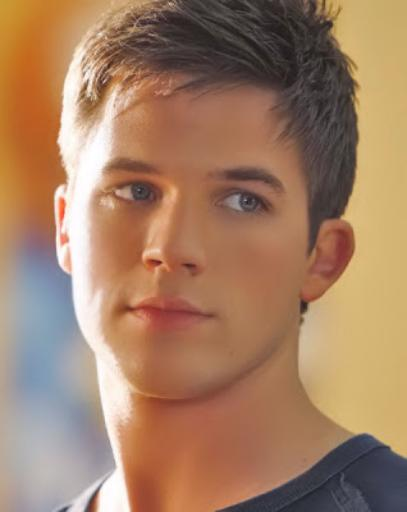left_eye: (214, 188, 275, 219)
left_lip_corner: (204, 306, 224, 327)
right_eye: (108, 180, 160, 209)
right_lip_corner: (119, 299, 141, 321)
